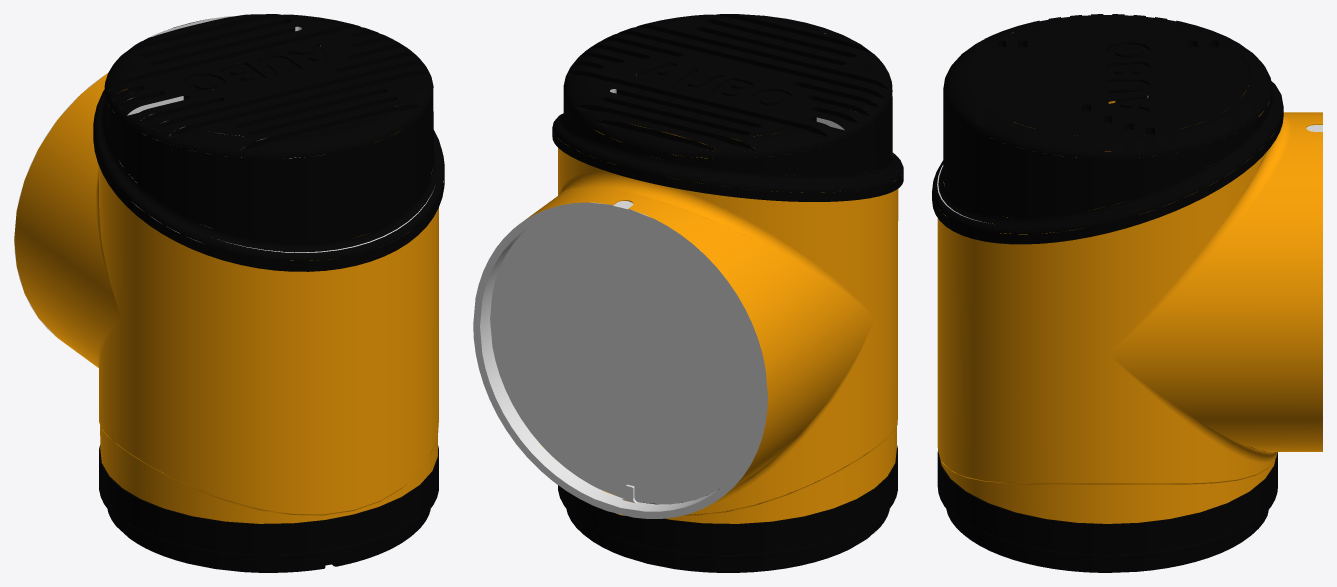
File: shoulder_Link.DAE
The picture shows the model from 3 angles, left to right: view 1: azimuth 30°, elevation 25°; view 2: azimuth 150°, elevation 25°; view 3: azimuth 270°, elevation 25°; orthographic projection.
Visible parts, largest first — view 1: NONE-DC_Shell, NONE-DC_Shell_ncl1_11, NONE-DC_Shell_ncl1_10; view 2: NONE-DC_Shell_ncl1_9, NONE-DC_Shell, NONE-DC_Shell_ncl1_11, NONE-DC_Shell_ncl1_10; view 3: NONE-DC_Shell, NONE-DC_Shell_ncl1_11, NONE-DC_Shell_ncl1_10.
Boxes of the visible parts, bbox=[...] form: NONE-DC_Shell: bbox=[14, 73, 438, 523]; NONE-DC_Shell_ncl1_11: bbox=[93, 14, 444, 271]; NONE-DC_Shell_ncl1_10: bbox=[99, 439, 438, 572]; NONE-DC_Shell_ncl1_9: bbox=[473, 201, 767, 518]; NONE-DC_Shell: bbox=[483, 124, 898, 523]; NONE-DC_Shell_ncl1_11: bbox=[552, 14, 903, 201]; NONE-DC_Shell_ncl1_10: bbox=[558, 445, 897, 572]; NONE-DC_Shell: bbox=[937, 85, 1322, 523]; NONE-DC_Shell_ncl1_11: bbox=[932, 14, 1283, 244]; NONE-DC_Shell_ncl1_10: bbox=[937, 447, 1277, 572].
Size of the model in its own units: 157 by 175 by 211.
